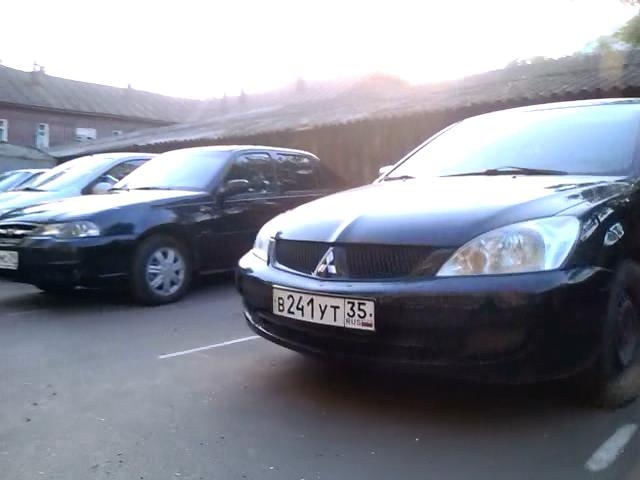car license plate: (270, 285, 376, 334)
